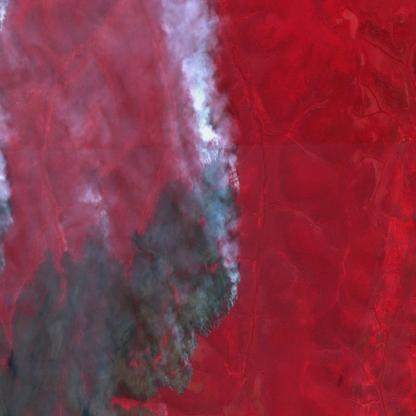fire: (0, 120, 246, 416), (0, 5, 9, 38)
